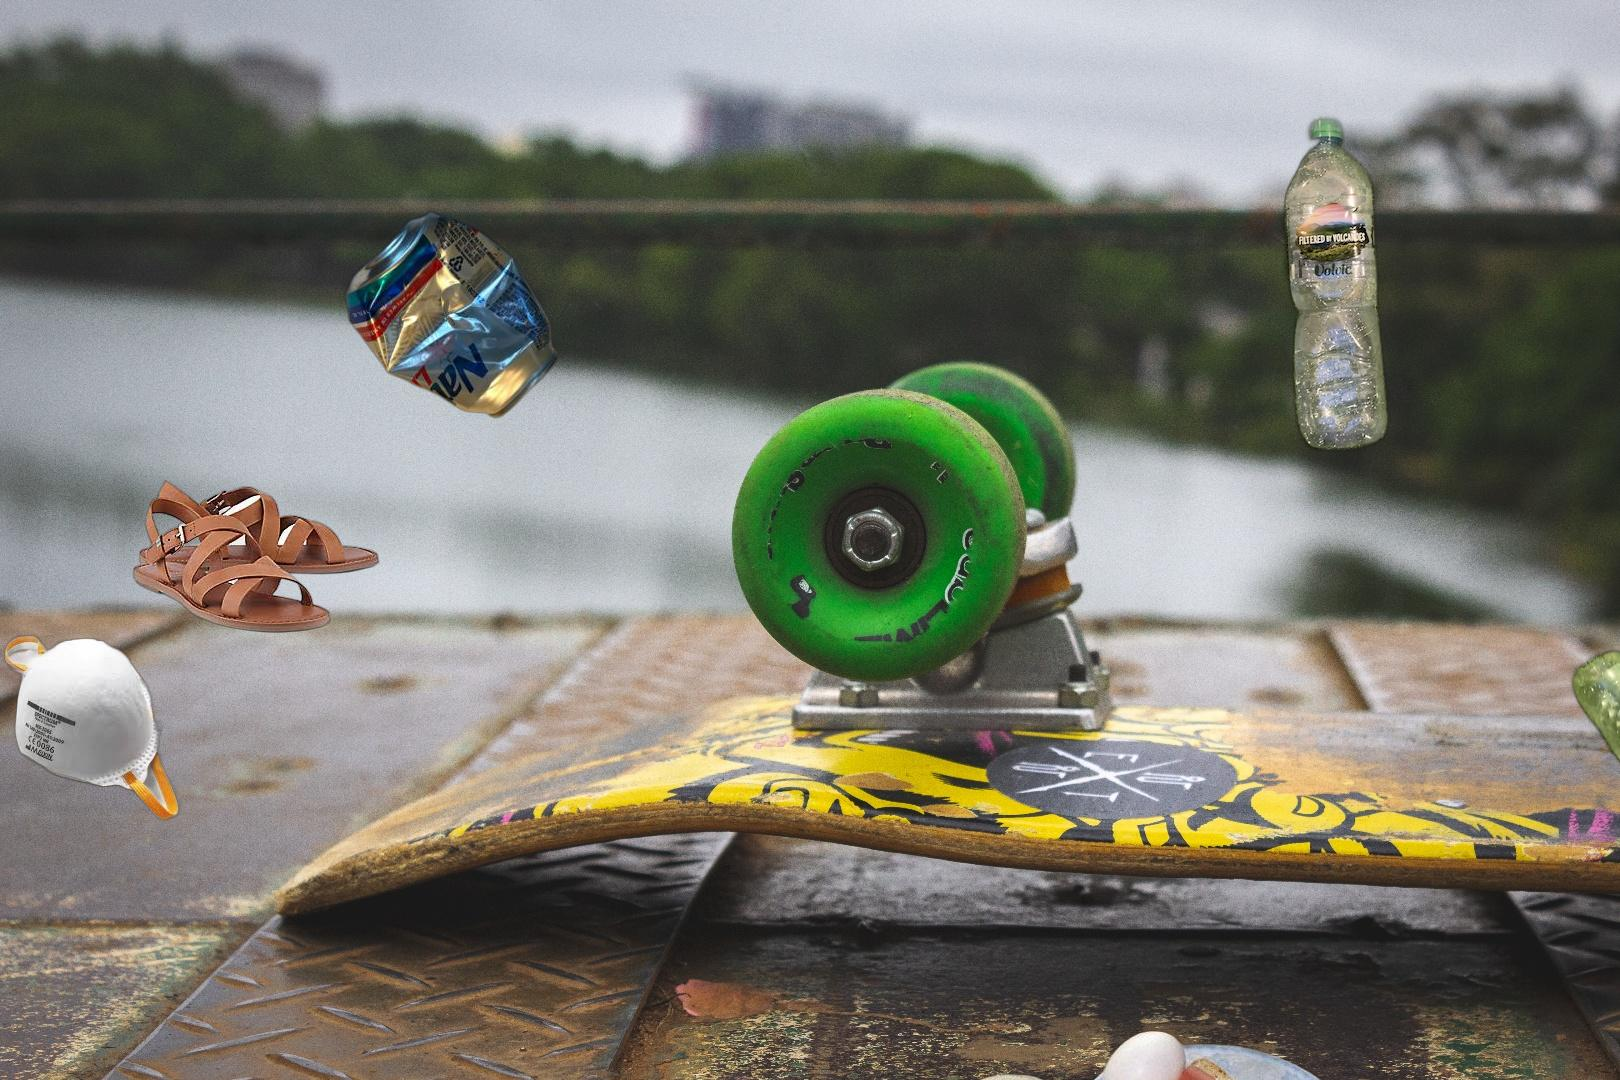biological: (953, 1028, 1352, 1080)
metal-cans: (341, 207, 563, 421)
penholder: (1612, 710, 1620, 1080)
plastic-bottles: (1279, 111, 1393, 457), (1568, 645, 1620, 849)
shoes: (133, 480, 382, 635)
trash: (2, 632, 183, 824)
